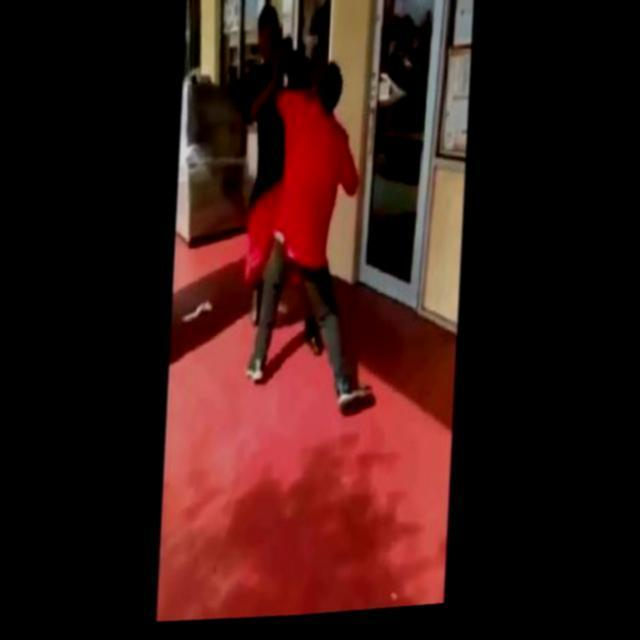fight: (232, 0, 399, 444)
